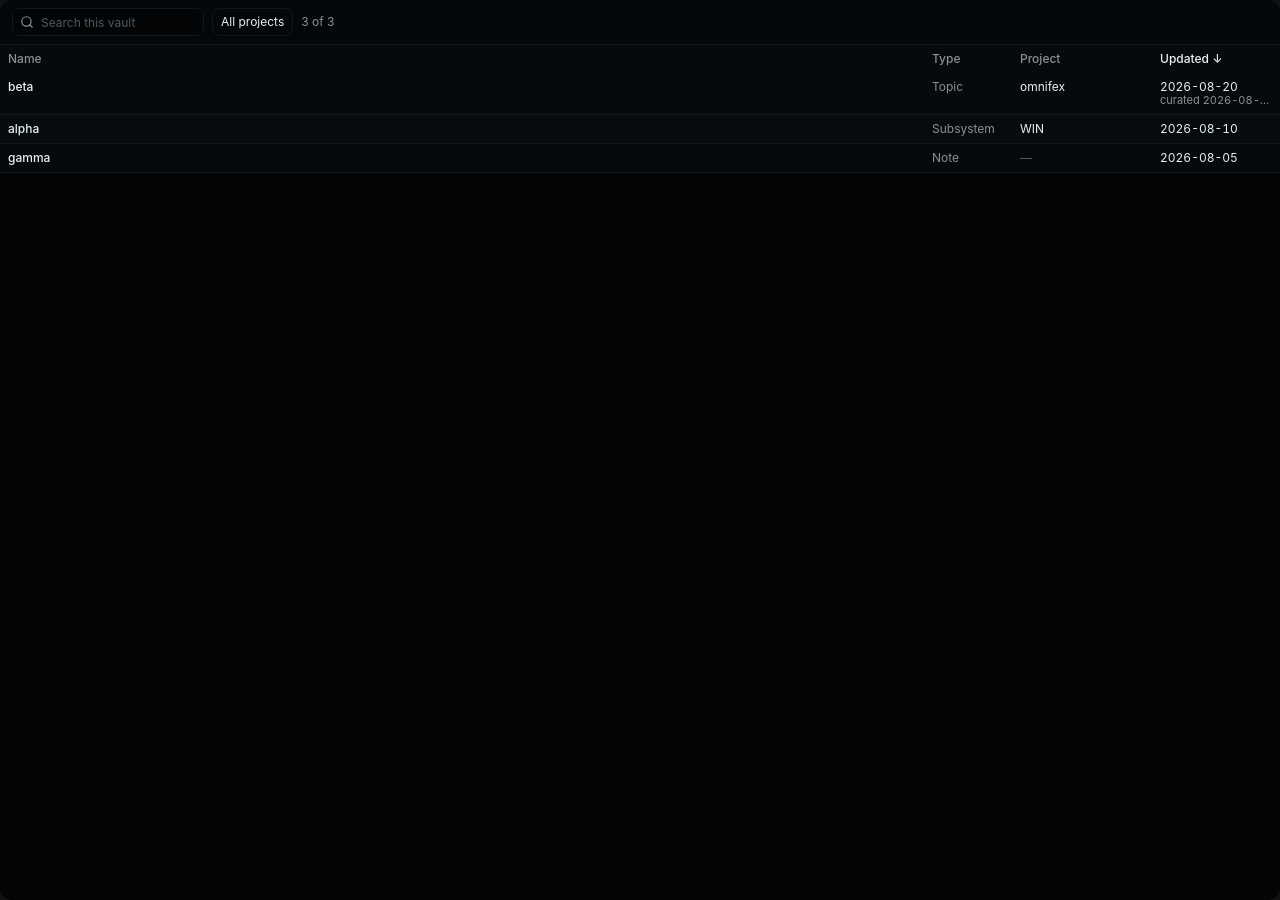
Test case: BrainNotesTable › narrows the rows to full-text hits, ranked
This screenshot has width=1280, height=900.
Type "stdio" into the field labelled "Search this vault" at (108, 22), box [12,8,204,36]
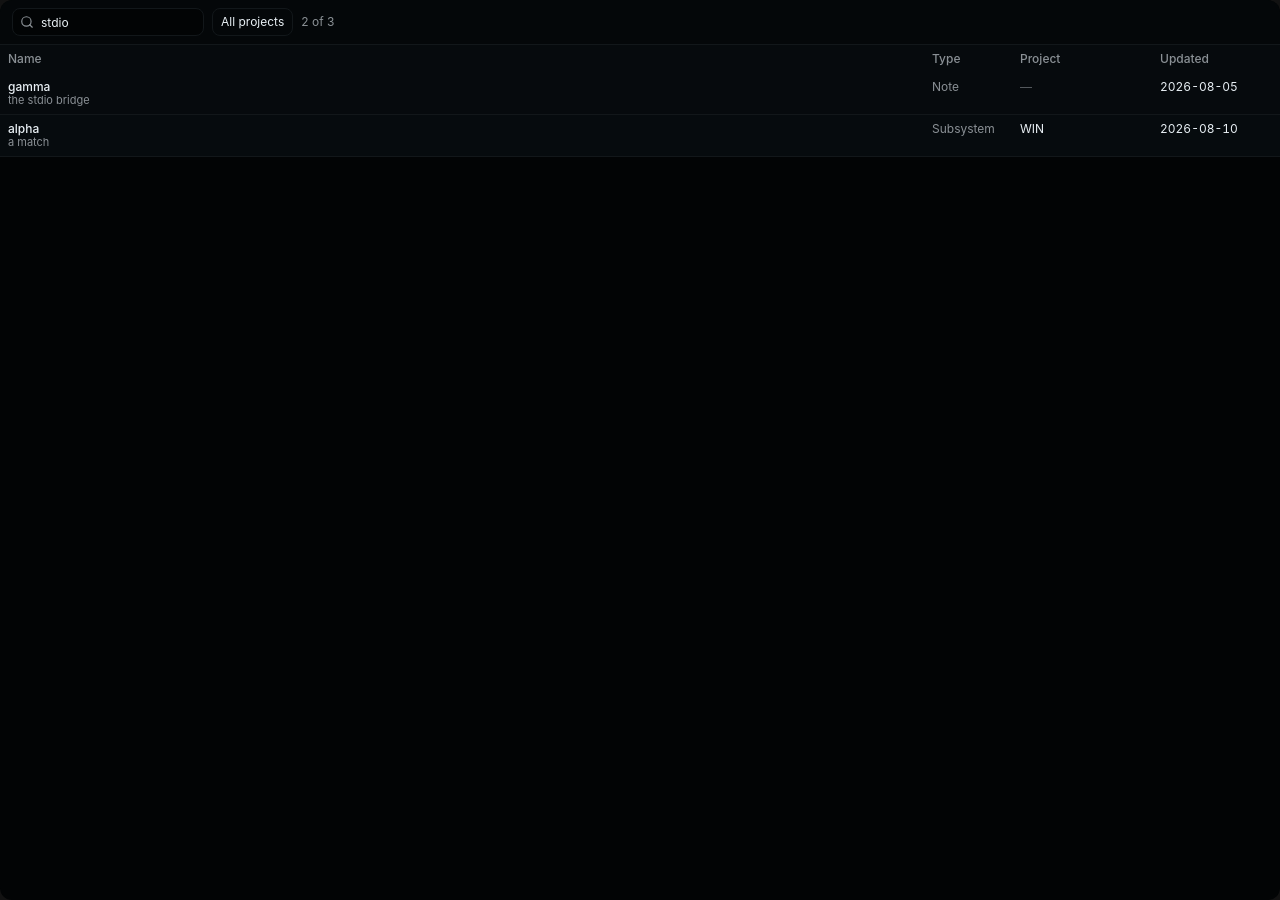
Result: the text "the stdio bridge" is shown at [8,93,90,107]
